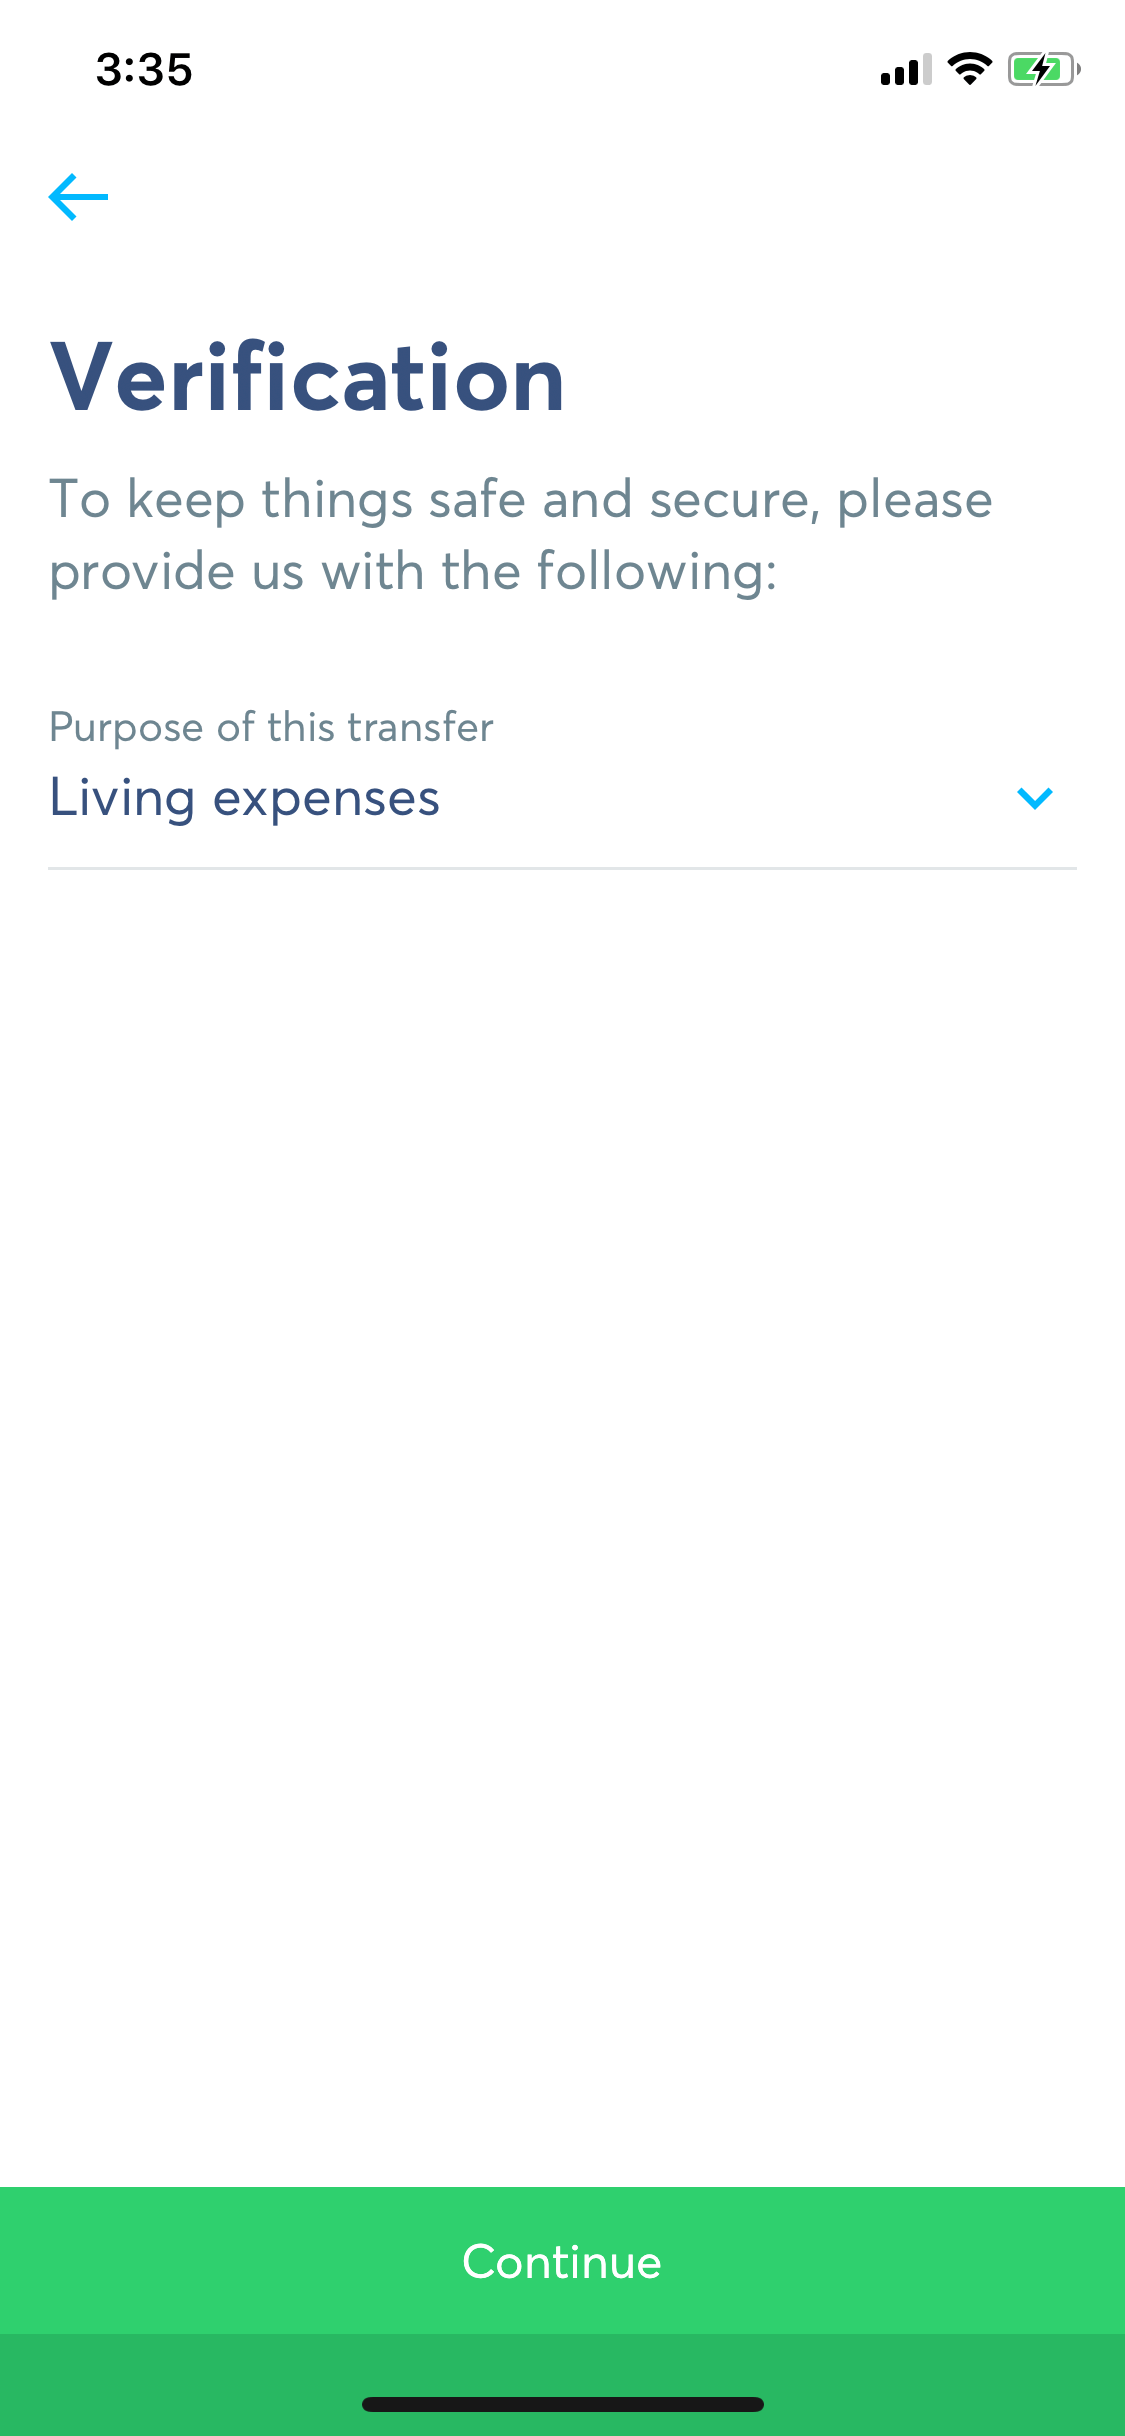Buttons: (2, 2156, 1125, 2358), (19, 126, 132, 252)
Text Fields: (16, 671, 1099, 892)
